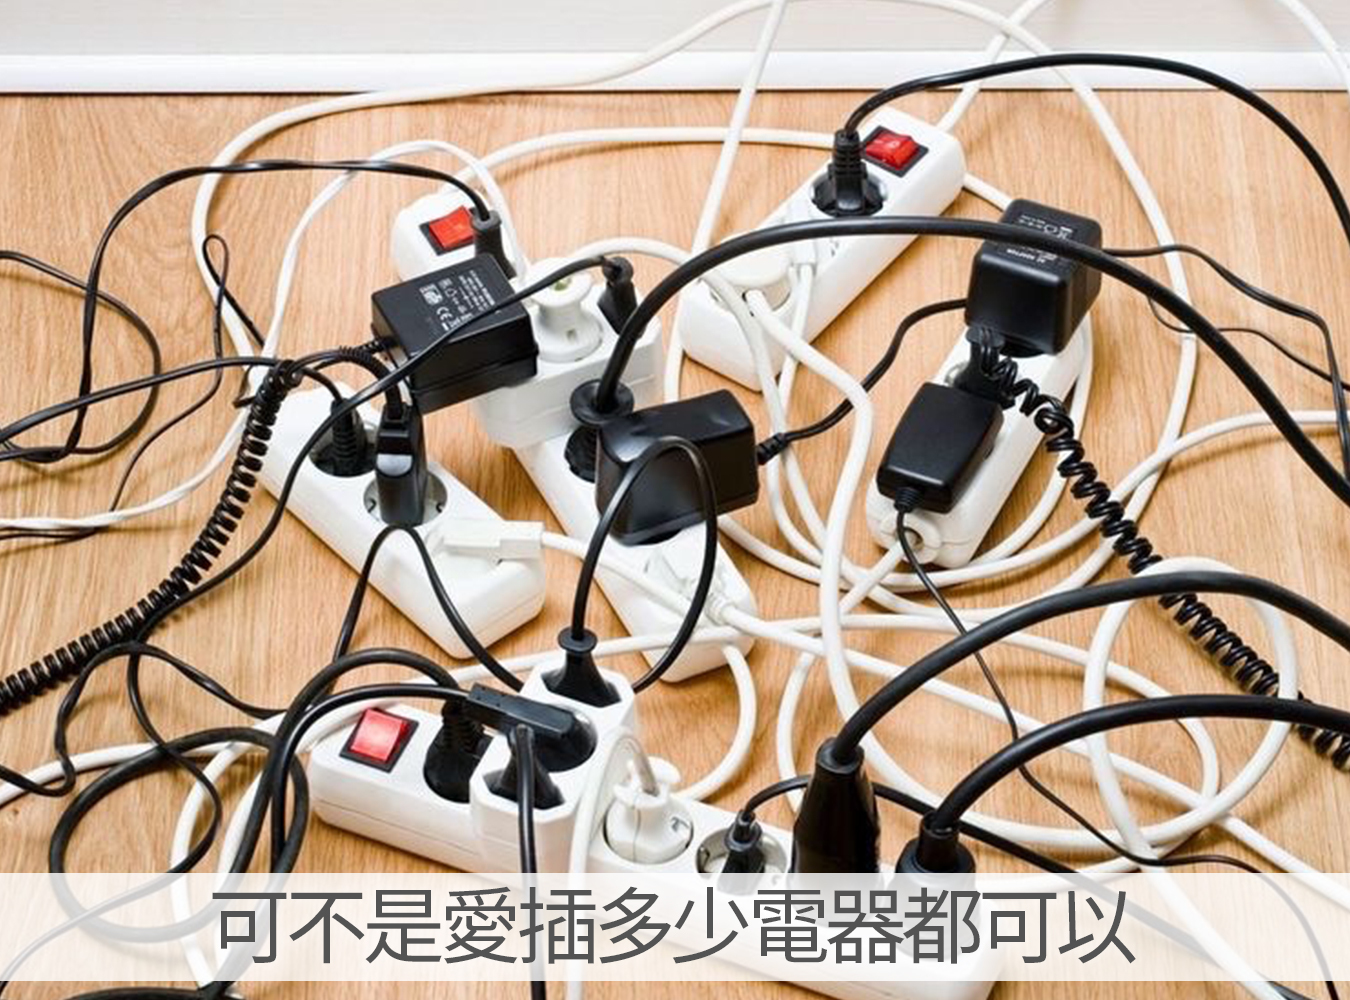socket: (310, 688, 1012, 1000), (382, 190, 759, 683), (867, 194, 1108, 569), (235, 379, 551, 662), (682, 106, 972, 392)
